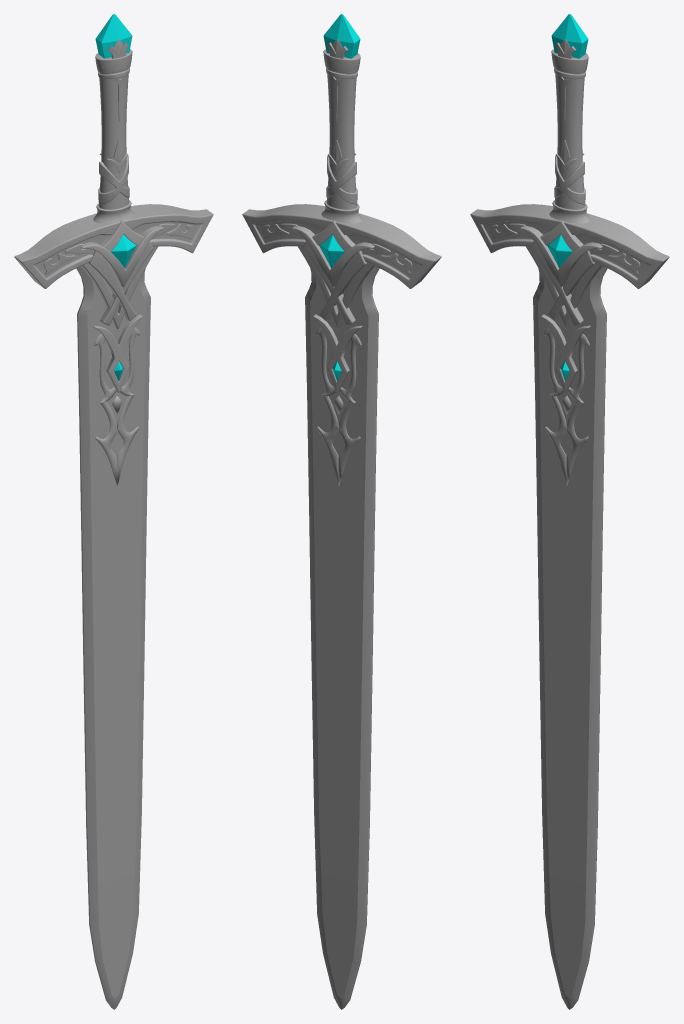
Rendered from Sword 18.fbx.
3 renders of one model, left to right at view 1: azimuth 30°, elevation 25°; view 2: azimuth 150°, elevation 25°; view 3: azimuth 330°, elevation 25°, orthographic.
Parts seen in each view (by area): view 1: polySurface79, polySurface81; view 2: polySurface79, polySurface81; view 3: polySurface79, polySurface81.
Boxes of the visible parts, left/top/right/bottom form: polySurface79: left=14, top=39, right=213, bottom=1009; polySurface81: left=95, top=14, right=136, bottom=380; polySurface79: left=242, top=39, right=441, bottom=1009; polySurface81: left=319, top=14, right=360, bottom=380; polySurface79: left=470, top=39, right=669, bottom=1009; polySurface81: left=547, top=14, right=588, bottom=380.
Bounding box in the file's own units: 0.0142 × 0.0698 × 0.00354.
